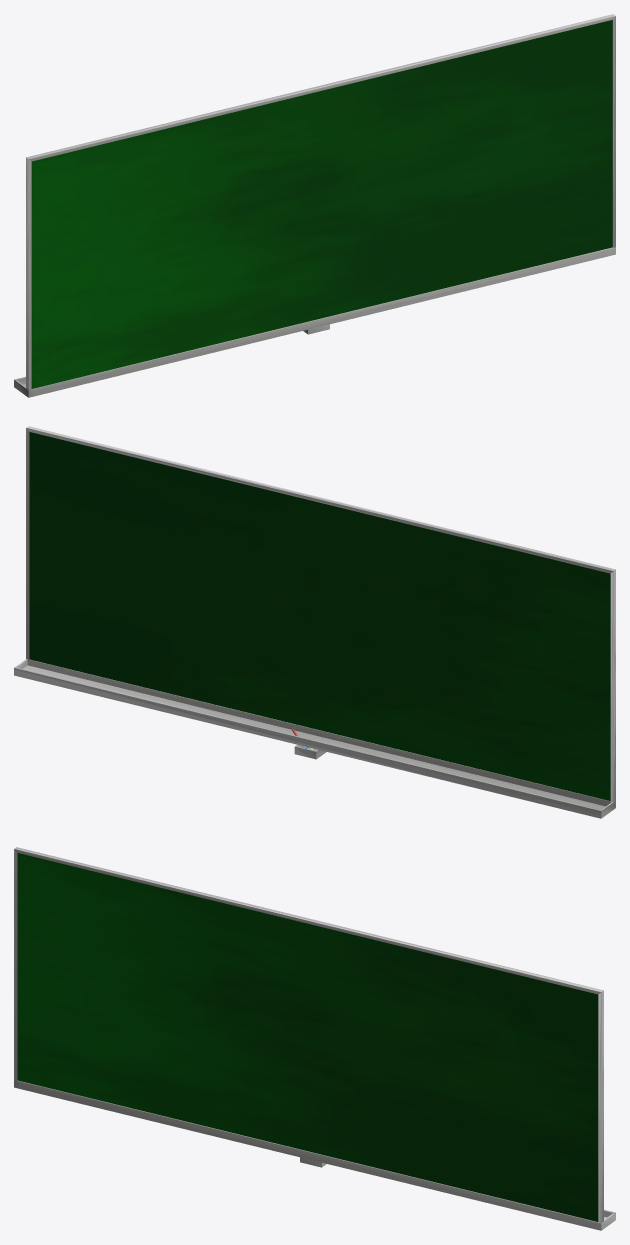
Rendered from chalk_board_wt.fbx.
3 views of the same model, one above another, from view 1: azimuth 30°, elevation 25°; view 2: azimuth 150°, elevation 25°; view 3: azimuth 330°, elevation 25° (orthographic).
Visible parts, largest first — view 1: Board, Cube, Upper Trim, Side Trim L, Side trim R; view 2: Board, Cube, Upper Trim, Side Trim L, Side trim R; view 3: Board, Cube, Upper Trim, Side trim R, Side Trim L.
Part boxes in pixels (left/top/right/bottom): Board: left=31, top=20, right=612, bottom=388; Cube: left=14, top=247, right=615, bottom=397; Upper Trim: left=26, top=14, right=615, bottom=161; Side Trim L: left=26, top=157, right=31, bottom=390; Side trim R: left=612, top=16, right=615, bottom=247; Board: left=29, top=432, right=610, bottom=800; Cube: left=14, top=659, right=615, bottom=818; Upper Trim: left=26, top=426, right=615, bottom=573; Side Trim L: left=610, top=570, right=615, bottom=802; Side trim R: left=26, top=428, right=29, bottom=659; Board: left=17, top=853, right=598, bottom=1221; Cube: left=14, top=1080, right=615, bottom=1230; Upper Trim: left=14, top=847, right=603, bottom=994; Side trim R: left=598, top=990, right=603, bottom=1223; Side Trim L: left=14, top=849, right=17, bottom=1080.
Bounding box in the file's own units: 404 × 162 × 19.95.
9 materials, 9 textured.
